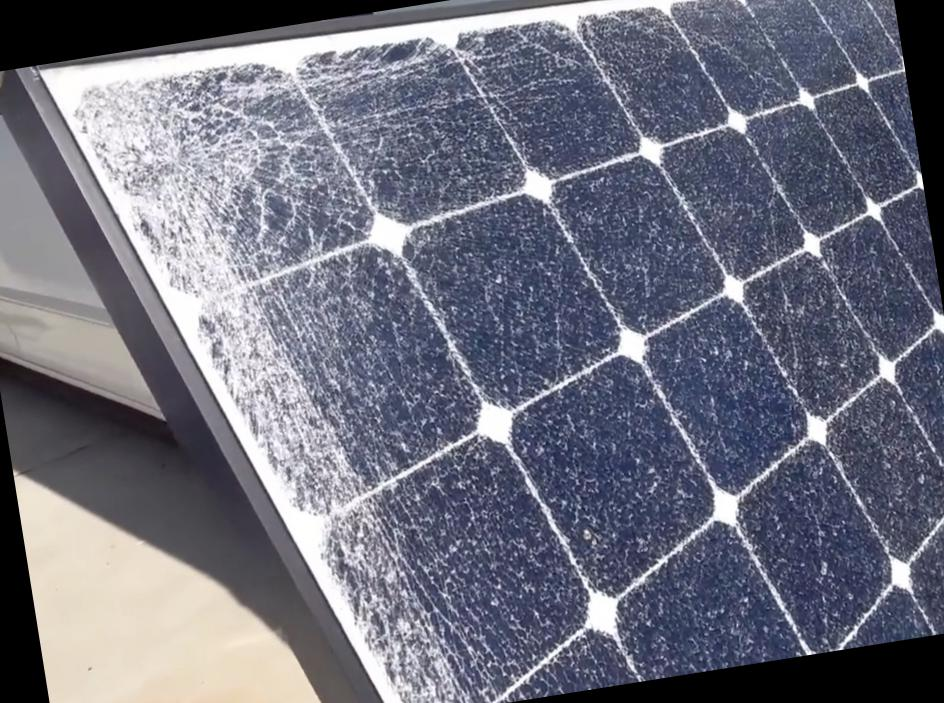Crack: (83, 52, 338, 285)
